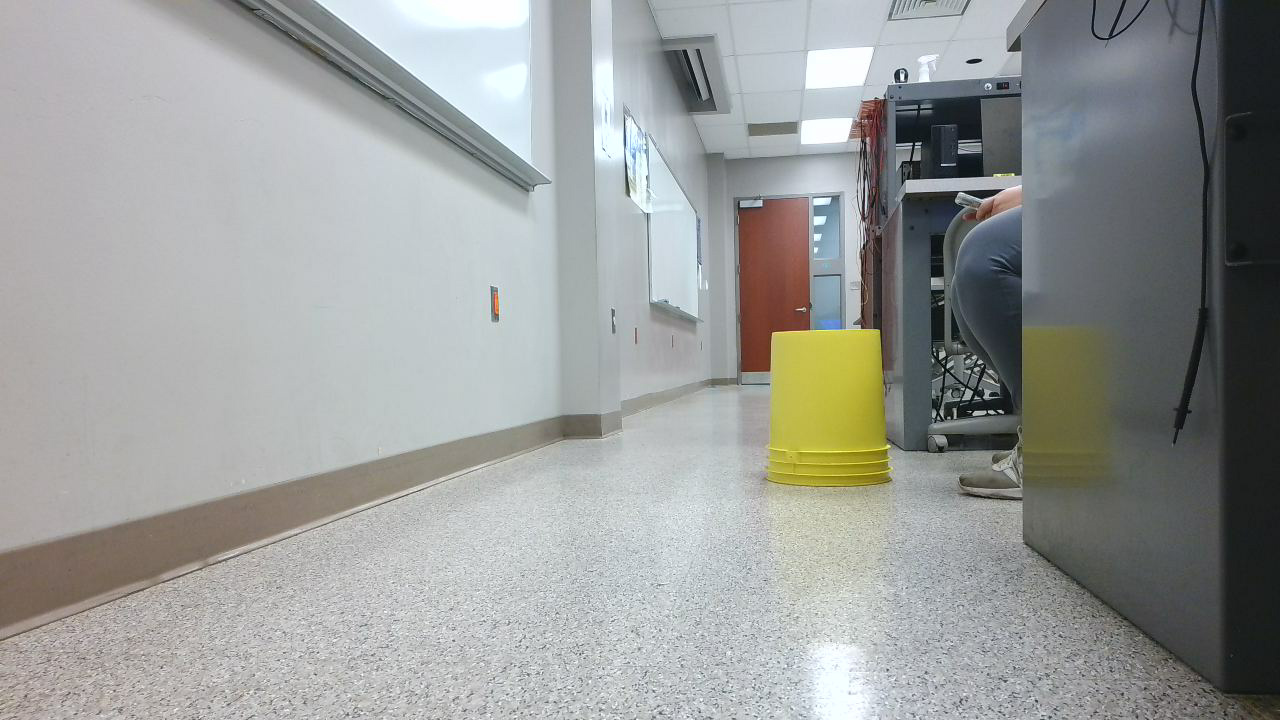yellow_bucket: (765, 331, 903, 498)
